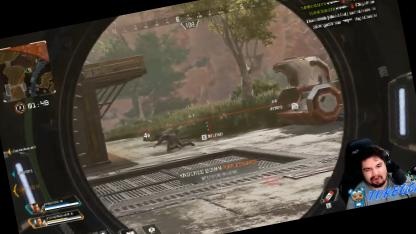Target: (154, 127, 192, 154)
